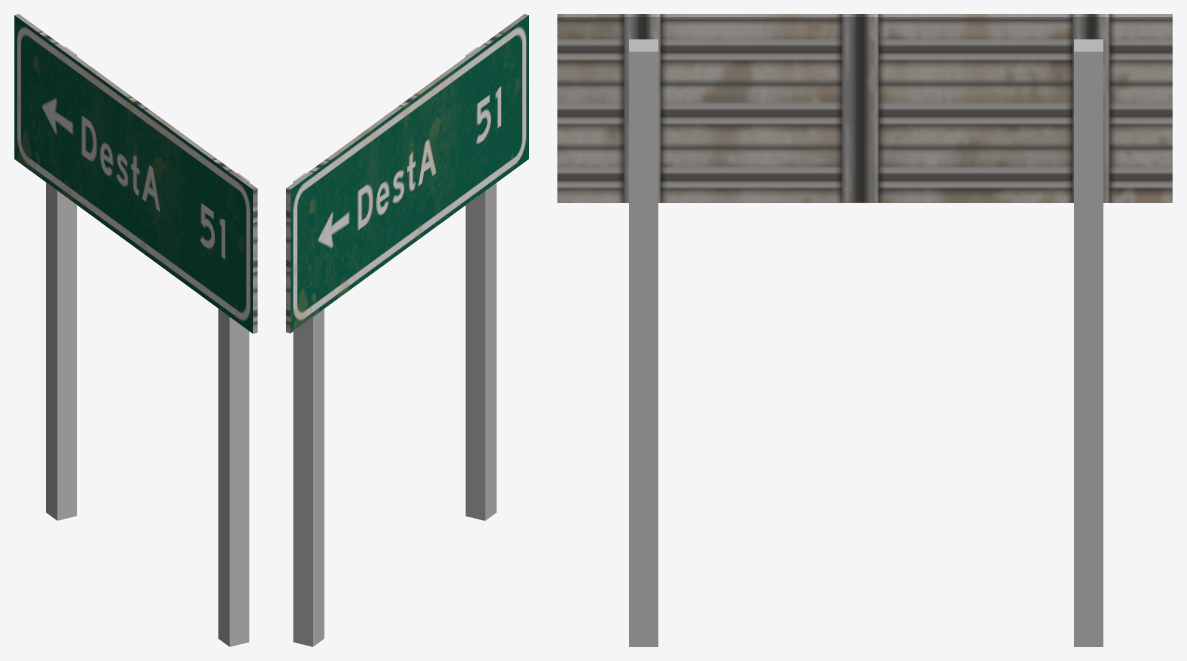
File: trafficSign_HWay1d_ground.fbx
3 renders of one model, left to right at view 1: azimuth 30°, elevation 25°; view 2: azimuth 150°, elevation 25°; view 3: azimuth 270°, elevation 25°, orthographic. The views are drawn at different scales.
Parts seen in each view (by area): view 1: trafficSign_HWay1d_ground; view 2: trafficSign_HWay1d_ground; view 3: trafficSign_HWay1d_ground.
Boxes of the visible parts, bbox=[...] form: trafficSign_HWay1d_ground: bbox=[14, 14, 257, 646]; trafficSign_HWay1d_ground: bbox=[286, 14, 528, 646]; trafficSign_HWay1d_ground: bbox=[557, 14, 1172, 646].
Bounding box in the file's own units: 15.84 × 299 × 270.
